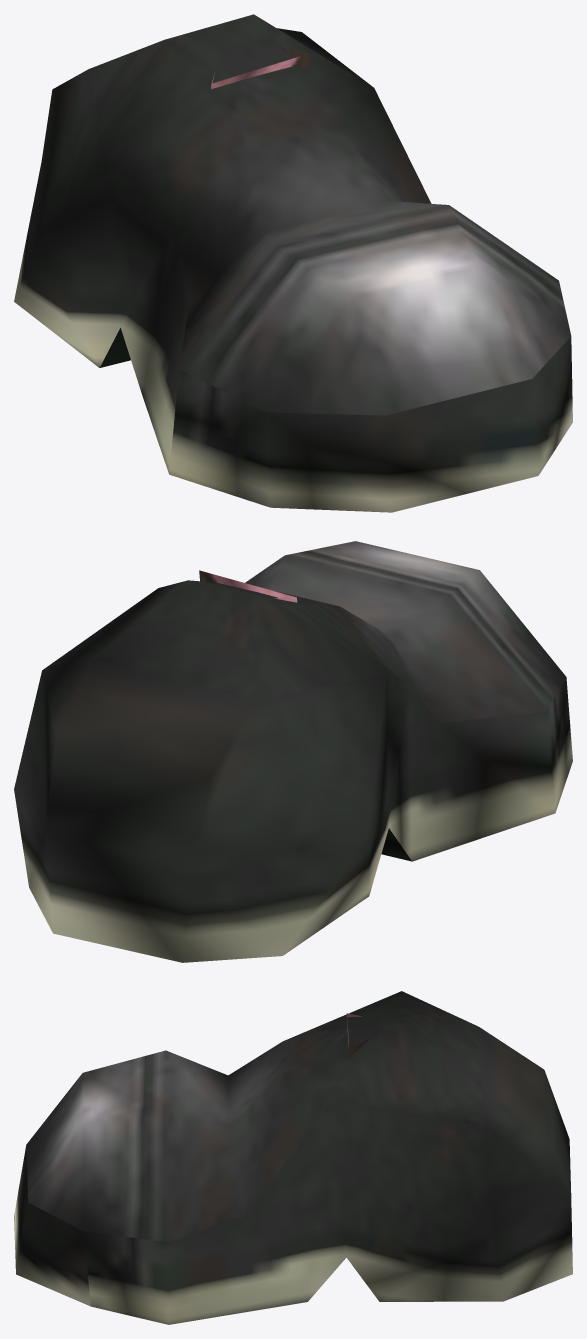
Rendered from Robot01.LeftFoot2.fbx.
3 renders of one model, top to bottom at view 1: azimuth 30°, elevation 25°; view 2: azimuth 150°, elevation 25°; view 3: azimuth 270°, elevation 25°, orthographic. The views are drawn at different scales.
Visible parts, largest first — view 1: Robot01.LeftFoot2; view 2: Robot01.LeftFoot2; view 3: Robot01.LeftFoot2.
Boxes of the visible parts, x1,y1,x2,y2 form: Robot01.LeftFoot2: [14, 14, 572, 512]; Robot01.LeftFoot2: [14, 541, 572, 962]; Robot01.LeftFoot2: [14, 991, 572, 1324].
Bounding box in the file's own units: 24.95 × 17.76 × 37.61.
